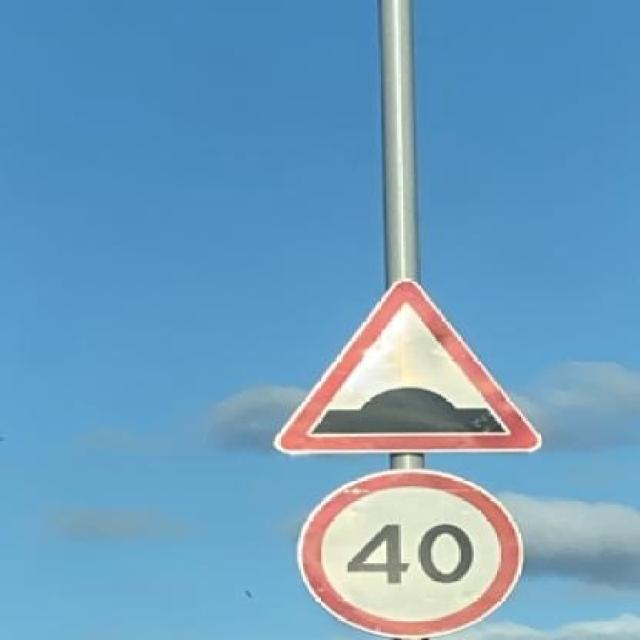forb_speed_over_40: (306, 467, 521, 640)
